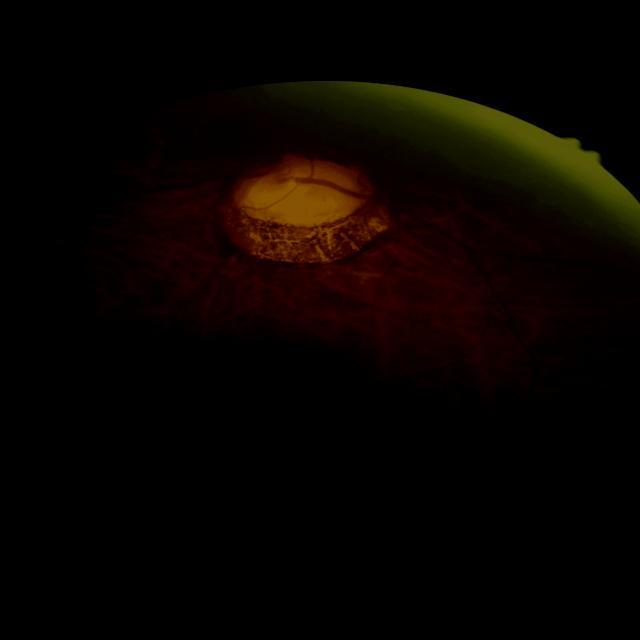cup: (252, 162, 356, 224)
disk: (239, 155, 375, 229)
